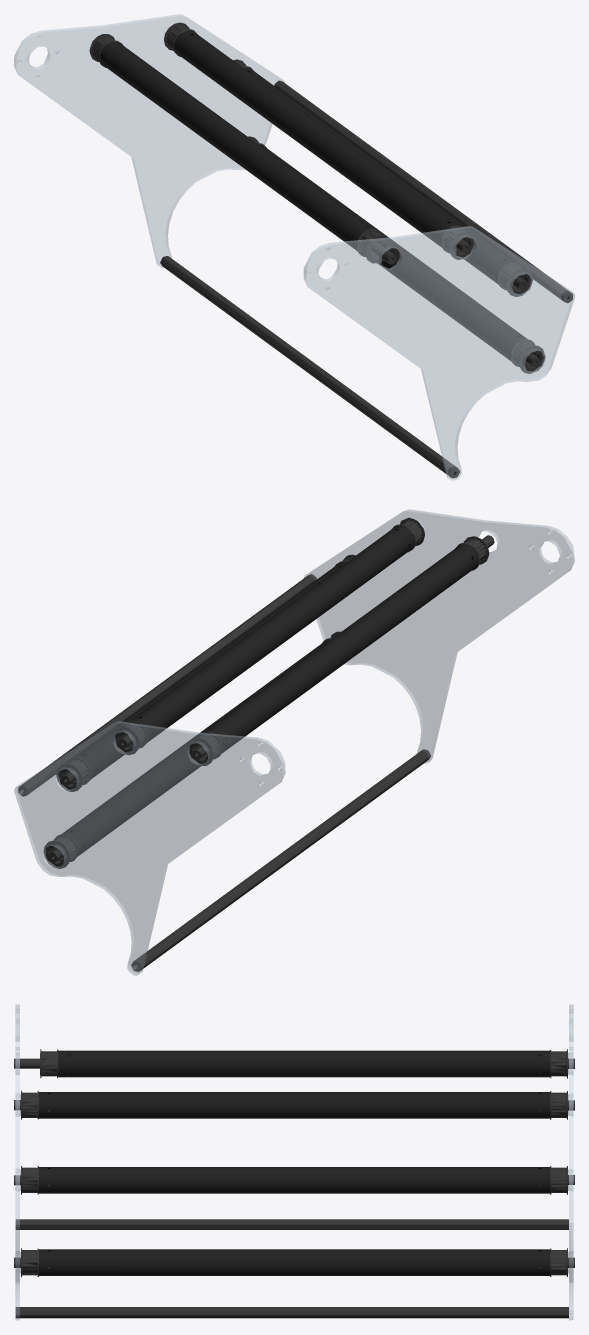
File: 8793-intake.glb
3 renders of one model, top to bottom at view 1: azimuth 30°, elevation 25°; view 2: azimuth 150°, elevation 25°; view 3: azimuth 270°, elevation 25°, orthographic. The views are drawn at different scales.
Visible parts, largest first — view 1: Side Plate, Roller Silicone, 20t Pulley w/ 1-1/8" OD Aluminum Stub Roller Hub (5mm HTD); view 2: Side Plate, Roller Silicone, 20t Pulley w/ 1-1/8" OD Aluminum Stub Roller Hub (5mm HTD); view 3: Roller Silicone, 20t Pulley w/ 1-1/8" OD Aluminum Stub Roller Hub (5mm HTD), Side Plate.
Boxes of the visible parts, bbox=[...] form: Side Plate: bbox=[14, 14, 574, 480]; Roller Silicone: bbox=[100, 30, 526, 360]; 20t Pulley w/ 1-1/8" OD Aluminum Stub Roller Hub (5mm HTD): bbox=[89, 22, 572, 478]; Side Plate: bbox=[14, 509, 574, 975]; Roller Silicone: bbox=[61, 526, 478, 855]; 20t Pulley w/ 1-1/8" OD Aluminum Stub Roller Hub (5mm HTD): bbox=[18, 517, 494, 971]; Roller Silicone: bbox=[39, 1050, 549, 1275]; 20t Pulley w/ 1-1/8" OD Aluminum Stub Roller Hub (5mm HTD): bbox=[14, 1049, 574, 1318]; Side Plate: bbox=[15, 1004, 573, 1320].
Size of the model in its own units: 0.3607 by 0.3408 by 0.6807.
